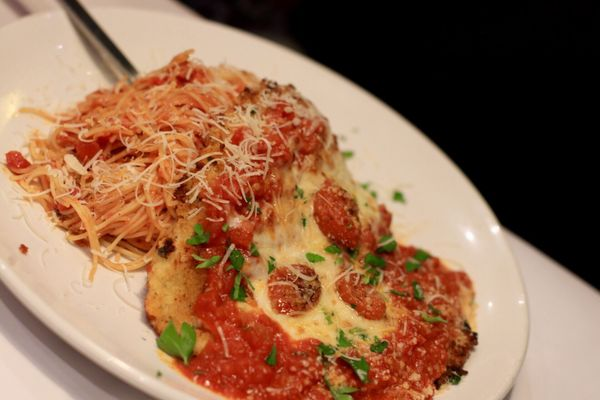sandwich: (16, 52, 486, 394)
